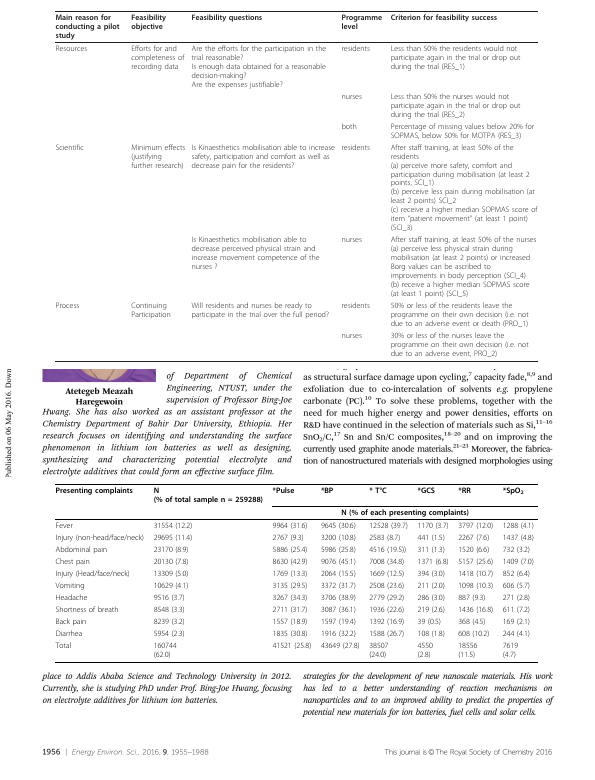borderless: (54, 9, 538, 361), (54, 482, 538, 662)
cell: (390, 143, 538, 233), (390, 235, 537, 299), (190, 44, 327, 89), (190, 235, 320, 272), (190, 143, 336, 170), (390, 301, 530, 329), (390, 331, 530, 359), (390, 44, 521, 72), (390, 92, 521, 119), (190, 301, 330, 320), (390, 122, 535, 140), (153, 486, 264, 504), (55, 13, 120, 40), (130, 44, 185, 72), (130, 143, 186, 170), (340, 508, 470, 518), (390, 13, 498, 22), (55, 533, 145, 543), (130, 301, 172, 320), (340, 13, 383, 31), (55, 569, 131, 579), (55, 486, 134, 495), (130, 13, 167, 31), (190, 13, 263, 22), (55, 605, 119, 615), (55, 545, 108, 555), (153, 641, 177, 659), (368, 521, 409, 531), (153, 521, 193, 531), (153, 533, 193, 543), (368, 545, 407, 555), (368, 641, 389, 659), (457, 641, 478, 659), (320, 521, 357, 531), (457, 521, 494, 531), (320, 533, 357, 543), (320, 545, 357, 555), (320, 557, 357, 567), (368, 557, 405, 567), (457, 557, 494, 567), (320, 569, 357, 579), (368, 569, 405, 579), (457, 569, 494, 579), (320, 581, 357, 591), (368, 581, 405, 591), (457, 581, 494, 591), (320, 593, 357, 603), (368, 593, 405, 603), (320, 605, 357, 615), (368, 605, 405, 615), (457, 605, 494, 615), (272, 521, 308, 531), (153, 545, 189, 555), (272, 545, 308, 555), (55, 557, 91, 567), (153, 557, 189, 567), (272, 557, 308, 567), (153, 569, 189, 579), (272, 569, 308, 579), (153, 581, 189, 591), (272, 581, 308, 591), (272, 593, 308, 603), (272, 605, 308, 615), (272, 641, 312, 650), (320, 641, 360, 650), (320, 617, 357, 626), (368, 617, 405, 626), (320, 629, 357, 638), (368, 629, 405, 638), (55, 44, 88, 54), (416, 521, 449, 531), (502, 521, 535, 531), (272, 533, 305, 543), (368, 533, 401, 543), (457, 533, 490, 543), (502, 533, 535, 543), (457, 545, 490, 555), (416, 557, 449, 567), (502, 557, 535, 567), (55, 593, 88, 603), (153, 593, 186, 603), (153, 605, 186, 615), (272, 617, 308, 626), (272, 629, 308, 638), (416, 641, 434, 659), (340, 44, 371, 54), (340, 301, 371, 311), (502, 641, 519, 659), (416, 533, 446, 543), (416, 545, 446, 555), (416, 569, 446, 579), (55, 581, 85, 591), (416, 581, 446, 591), (416, 593, 446, 603), (416, 605, 446, 615), (153, 617, 186, 626), (153, 629, 186, 638), (457, 629, 490, 638), (502, 545, 531, 555), (502, 569, 531, 579), (502, 581, 531, 591), (457, 593, 486, 603), (502, 593, 531, 603), (502, 605, 531, 615), (55, 617, 87, 626), (54, 143, 85, 152), (340, 143, 371, 152), (416, 629, 446, 638), (457, 617, 486, 626), (502, 617, 531, 626), (502, 629, 531, 638), (54, 301, 80, 311), (55, 629, 83, 638), (416, 617, 442, 626), (340, 235, 363, 245), (340, 331, 363, 341), (502, 486, 525, 496), (340, 92, 363, 101), (272, 486, 295, 495), (55, 521, 74, 531), (368, 486, 388, 495), (416, 486, 436, 495), (340, 122, 358, 131), (55, 641, 72, 650), (457, 486, 472, 495), (320, 486, 334, 495)
